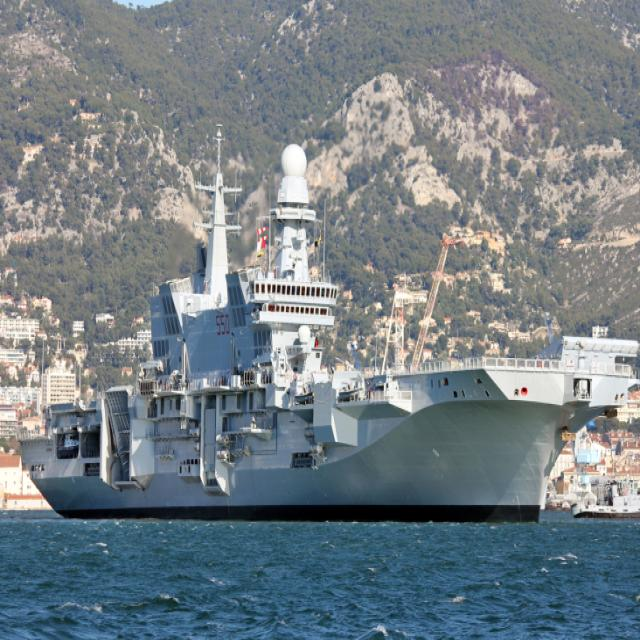Portanaves: (19, 133, 640, 527)
